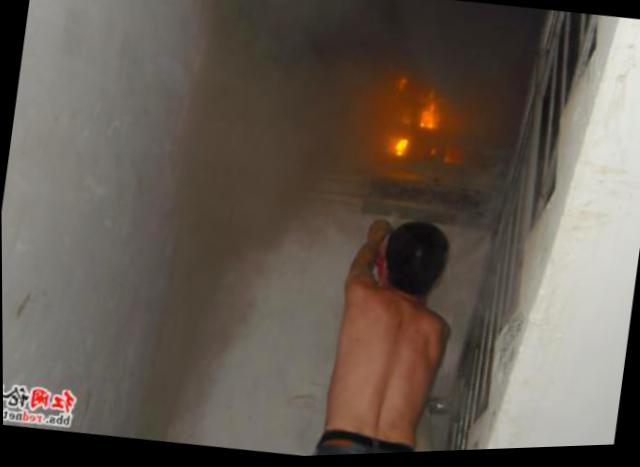fire: (422, 92, 446, 132), (385, 136, 412, 159)
